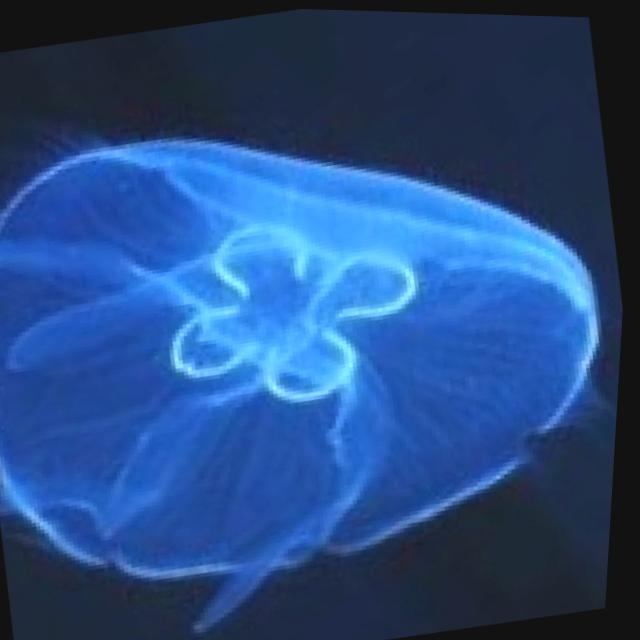Moon-jellyfish: (0, 52, 638, 640)
